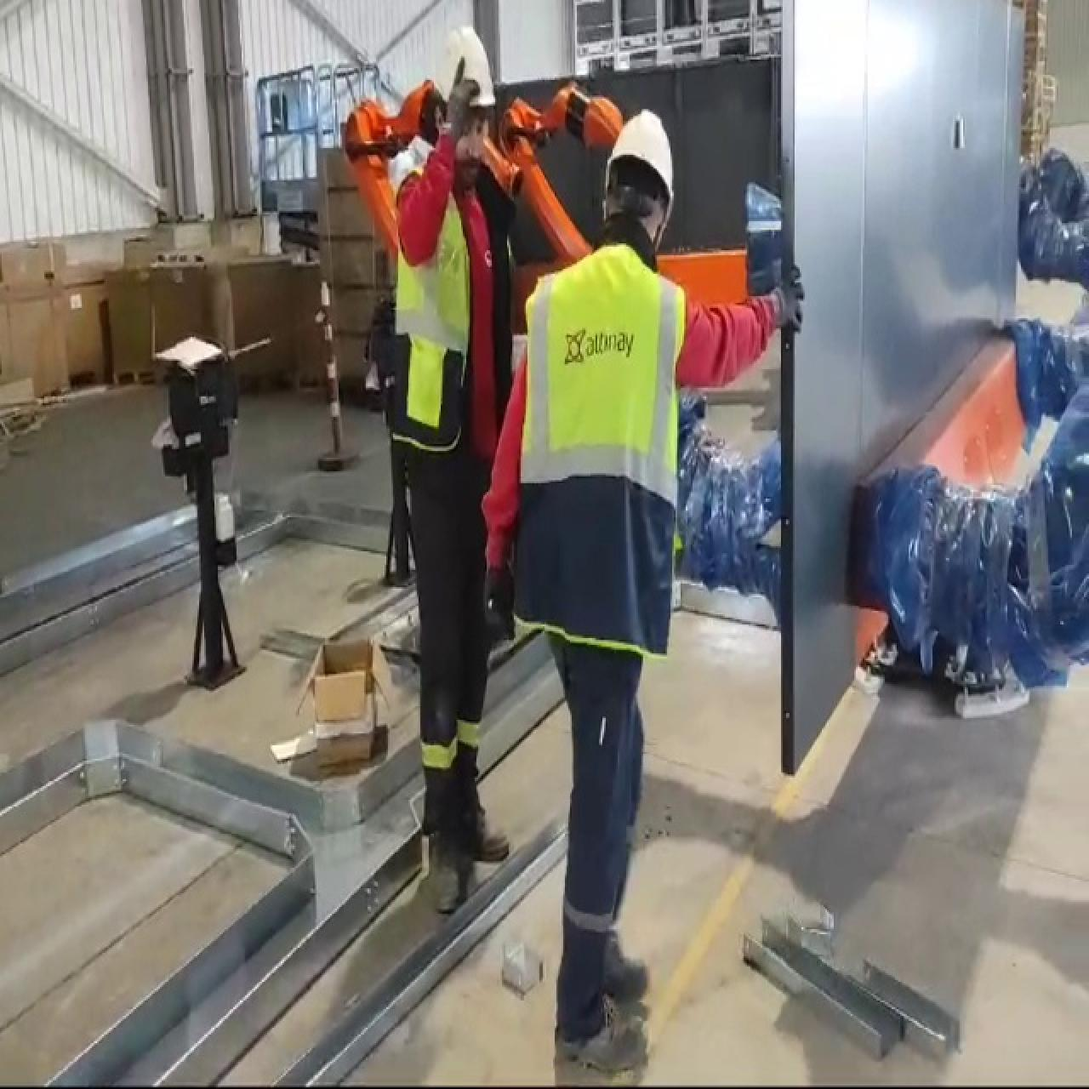Person: (469, 71, 766, 1049), (363, 0, 538, 917)
Safety_Vest: (516, 241, 702, 668), (382, 120, 502, 466)
